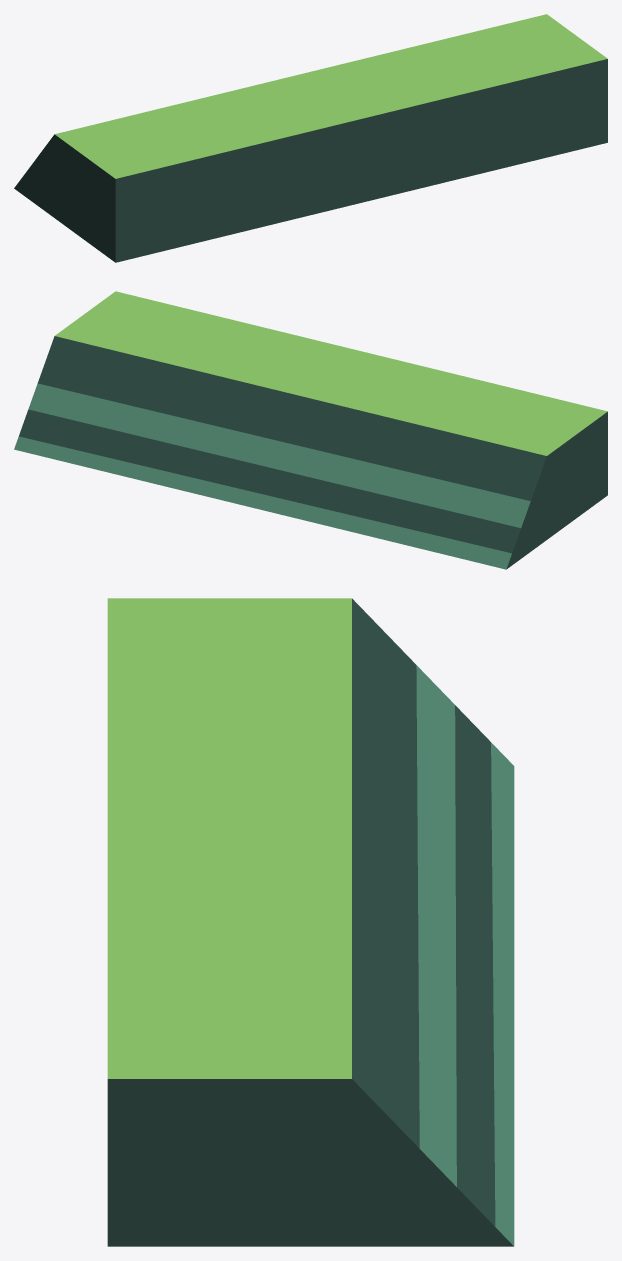
The model's file is CliffEdge.fbx.
3 renders of one model, top to bottom at view 1: azimuth 30°, elevation 25°; view 2: azimuth 150°, elevation 25°; view 3: azimuth 270°, elevation 25°, orthographic. The views are drawn at different scales.
Parts seen in each view (by area): view 1: Cube; view 2: Cube; view 3: Cube.
Boxes of the visible parts, <box> form: Cube: <box>14,14,607,262</box>; Cube: <box>14,291,607,569</box>; Cube: <box>107,598,514,1246</box>.
Bounding box in the file's own units: 1043 × 170 × 373.
